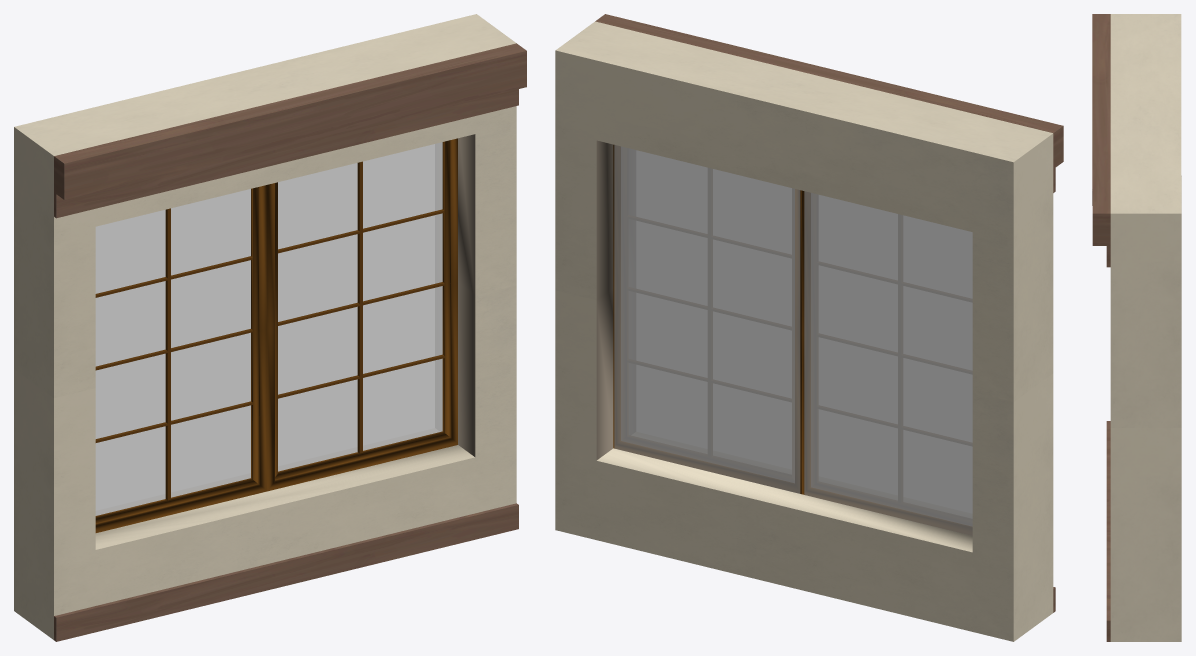
The model's file is WallWindowDouble1.fbx.
3 renders of one model, left to right at view 1: azimuth 30°, elevation 25°; view 2: azimuth 150°, elevation 25°; view 3: azimuth 270°, elevation 25°, orthographic. The views are drawn at different scales.
Visible parts, largest first — view 1: Double Window Wall; view 2: Double Window Wall; view 3: Double Window Wall.
Boxes of the visible parts, box(x1,y1,x2,y2) form: Double Window Wall: box(14, 14, 526, 641); Double Window Wall: box(555, 14, 1063, 641); Double Window Wall: box(1092, 14, 1181, 641).
Bounding box in the file's own units: 400 × 400 × 75.33.
Materials: 3 (1 with a texture image).
